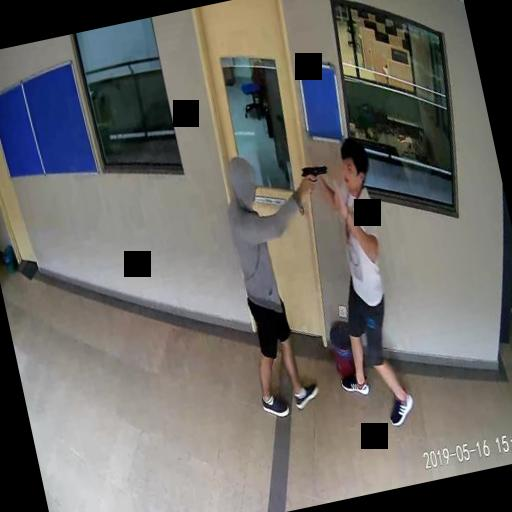Handgun: (298, 158, 330, 193)
